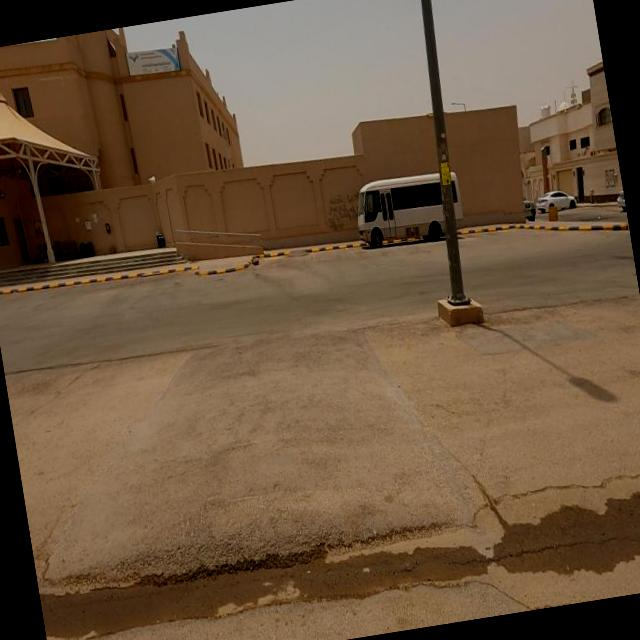debris: (292, 141, 392, 272), (130, 212, 186, 272)
